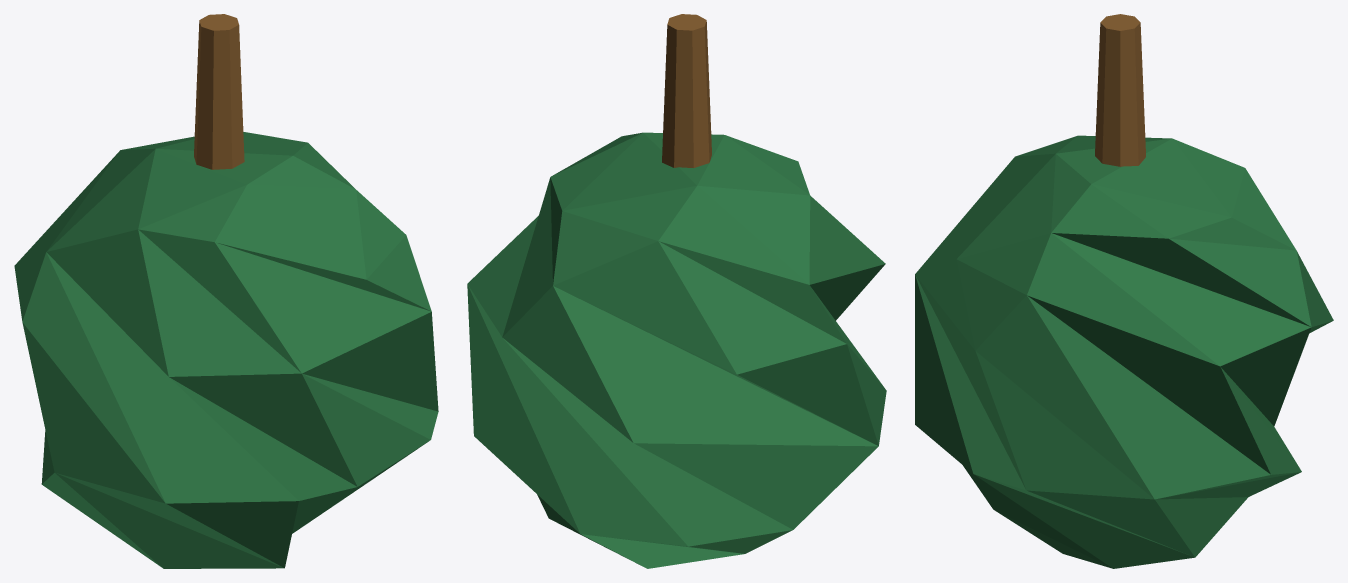
The model's file is Bush FBX.fbx.
3 renders of one model, left to right at view 1: azimuth 30°, elevation 25°; view 2: azimuth 150°, elevation 25°; view 3: azimuth 270°, elevation 25°, orthographic. The views are drawn at different scales.
Parts seen in each view (by area): view 1: BushLeaves_LOD0, BushStem; view 2: BushLeaves_LOD0, BushStem; view 3: BushLeaves_LOD0, BushStem.
Part boxes in pixels (left/top/right/bottom): BushLeaves_LOD0: left=14, top=132, right=438, bottom=568; BushStem: left=194, top=14, right=244, bottom=169; BushLeaves_LOD0: left=467, top=132, right=886, bottom=568; BushStem: left=662, top=14, right=711, bottom=167; BushLeaves_LOD0: left=915, top=135, right=1333, bottom=568; BushStem: left=1095, top=14, right=1145, bottom=166.
Size of what is drawn, in the model's own units: 55.86 by 76.26 by 56.18.
